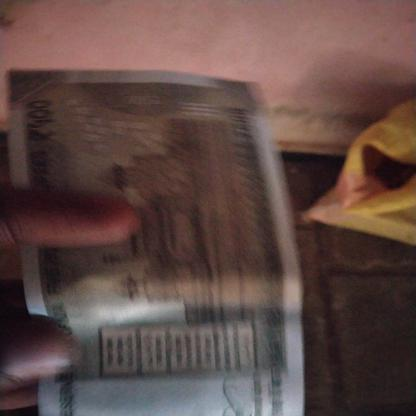New500Back: (9, 76, 287, 416)
